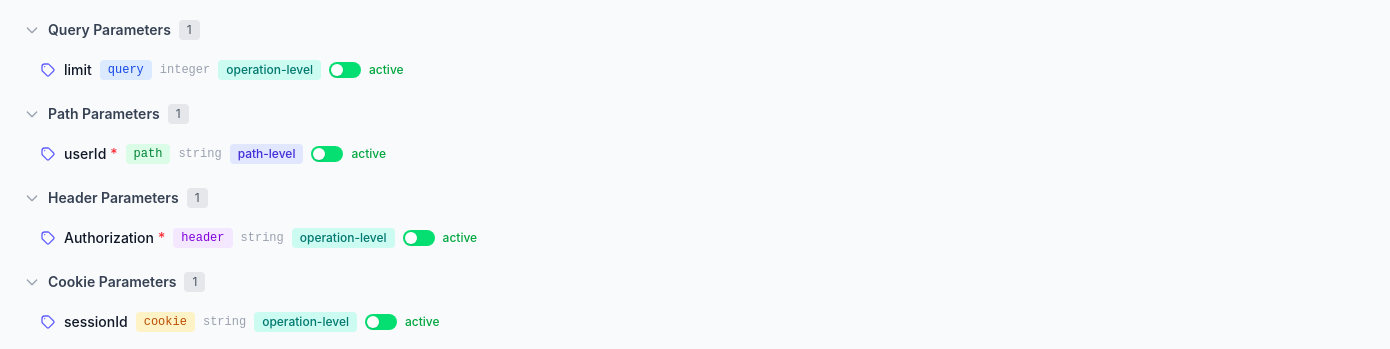
it: ParameterNode › Parameter Type Grouping (Requirement 11.1) › should expand/collapse groups on click
Expected: the text "limit" is shown, [64,60,92,80]
# Click to collapse
Click the button with test id "parameter-group-query-header": point(109, 30) [12,12,1378,48]
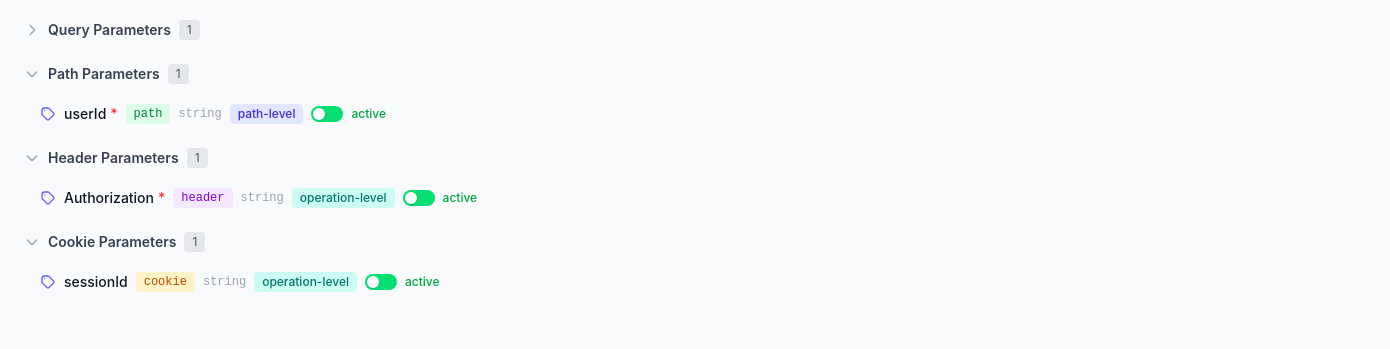
Expected: the text "limit" is gone
# Click to expand again
Click the button "Query Parameters 1": point(109, 30) [12,12,1378,48]
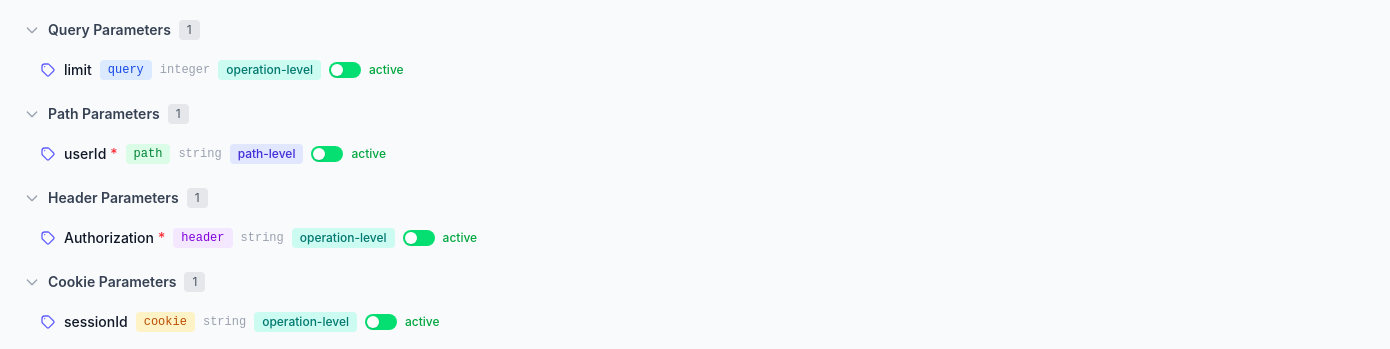
Expected: the text "limit" is shown, [64,60,92,80]
